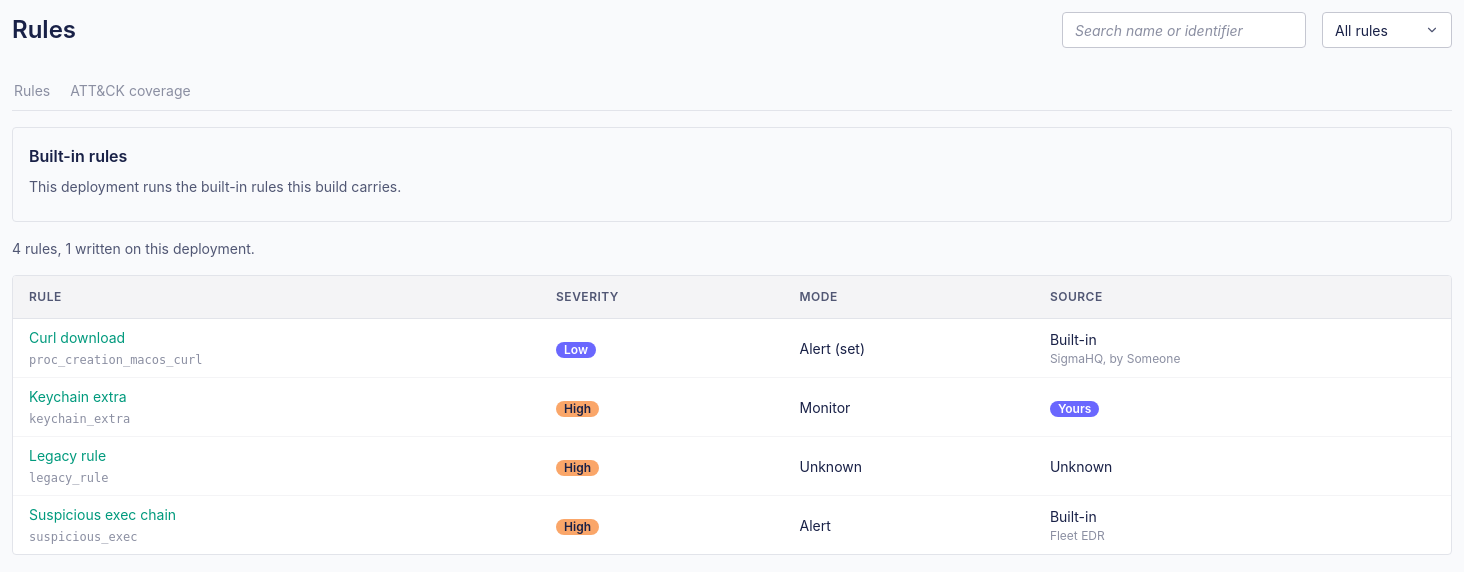
RulesCatalog › marks the deployment's own rules apart from built-in ones, crediting their authors
Expected: the text "Yours" is shown, left=1050, top=400, right=1099, bottom=416
Expected: the text "Built-in" in the row of "Curl download" is shown, left=1050, top=330, right=1097, bottom=348
Select "Your rules" in the dropdown named "Filter rules by who wrote them" at (1387, 30), box left=1322, top=12, right=1452, bottom=48
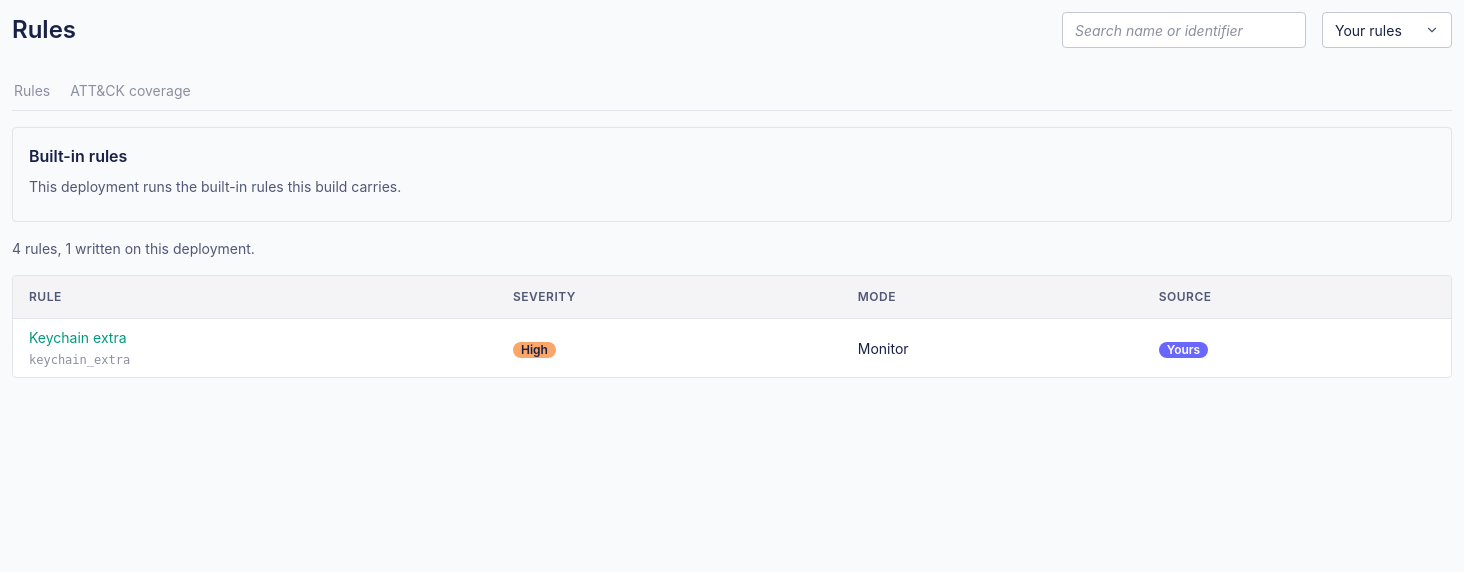
Expected: the links read "Keychain extra", in this order, left=29, top=329, right=127, bottom=346
Select "Built-in rules" in the dropdown named "Filter rules by who wrote them" at (1387, 30), box left=1322, top=12, right=1452, bottom=48
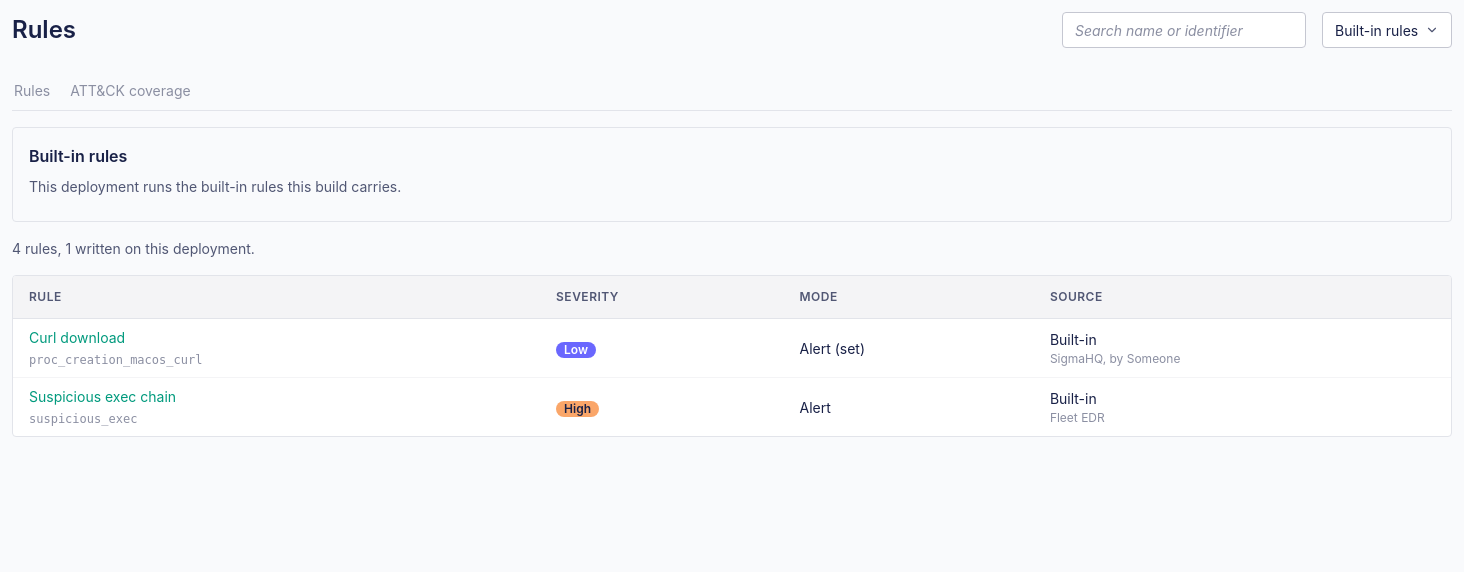
Expected: the links read "Curl download", "Suspicious exec chain", in this order, left=29, top=329, right=125, bottom=346; left=29, top=388, right=176, bottom=405
